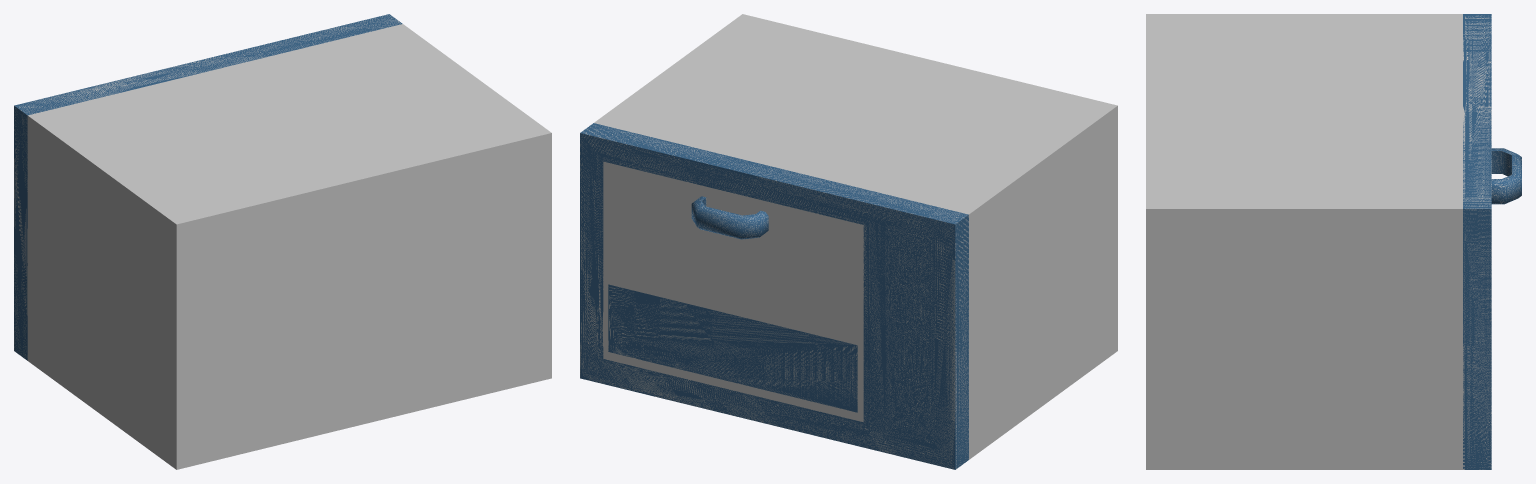
The picture shows the model from 3 angles, left to right: view 1: azimuth 30°, elevation 25°; view 2: azimuth 150°, elevation 25°; view 3: azimuth 270°, elevation 25°; orthographic projection. The views are drawn at different scales.
Visible parts, largest first — view 1: mesh16_mesh16-geometry; view 2: mesh16_mesh16-geometry, mesh3_mesh3-geometry; view 3: mesh16_mesh16-geometry.
Boxes of the visible parts, <box> form: mesh16_mesh16-geometry: <box>14,14,551,469</box>; mesh16_mesh16-geometry: <box>580,14,1117,469</box>; mesh3_mesh3-geometry: <box>892,243,928,377</box>; mesh16_mesh16-geometry: <box>1146,14,1521,469</box>.
Bounding box in the file's own units: 0.6942 × 0.4447 × 0.566.
